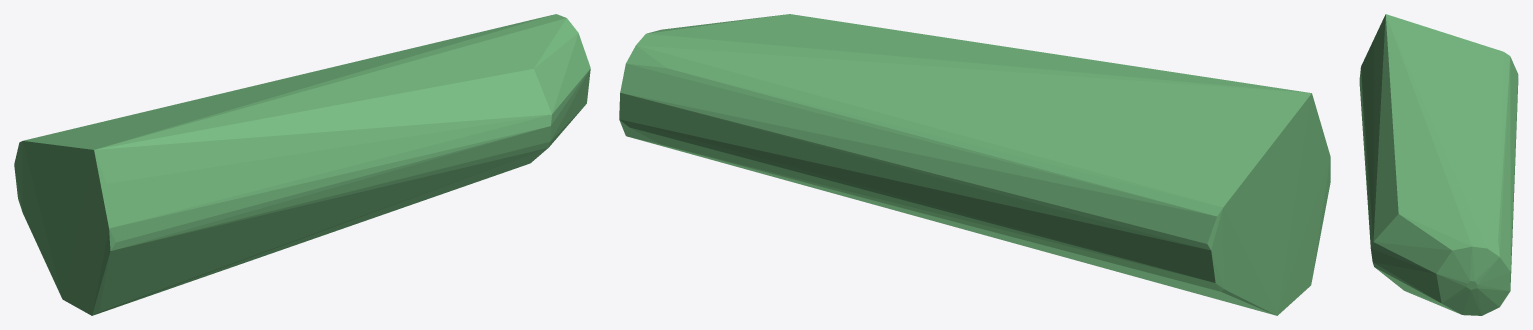
Rendered from syringe_a01.glb.
3 views of the same model, side by side, from view 1: azimuth 30°, elevation 25°; view 2: azimuth 150°, elevation 25°; view 3: azimuth 270°, elevation 25° (orthographic). The views are drawn at different scales.
Parts seen in each view (by area): view 1: geometry_0; view 2: geometry_0; view 3: geometry_0.
Boxes of the visible parts, x1=… form: geometry_0: x1=14, y1=14, x2=590, y2=315; geometry_0: x1=619, y1=14, x2=1330, y2=315; geometry_0: x1=1359, y1=14, x2=1518, y2=315.
Size of the model in its own units: 0.4798 by 0.1469 by 0.1556.
